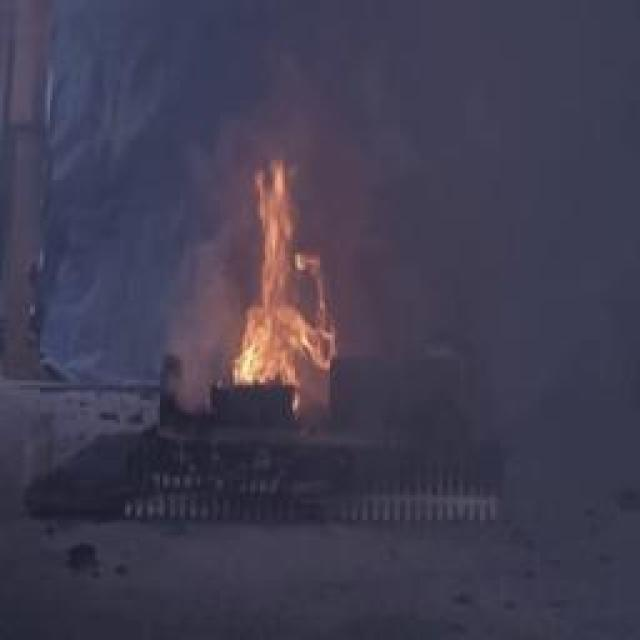fire: (225, 144, 333, 411)
